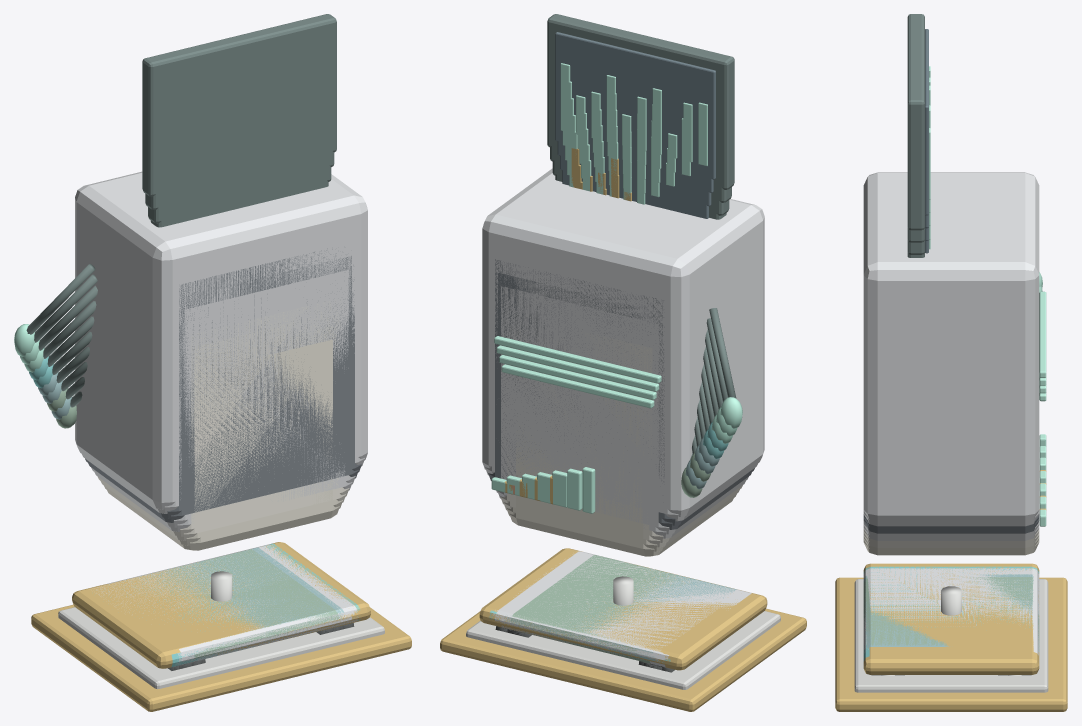
The model's file is Gear18.fbx.
The picture shows the model from 3 angles, left to right: view 1: azimuth 30°, elevation 25°; view 2: azimuth 150°, elevation 25°; view 3: azimuth 270°, elevation 25°; orthographic projection. The views are drawn at different scales.
Parts seen in each view (by area): view 1: Gear18_V10_Platinum, Gear18_V10_Ink, Gear18_V10_Gold, Gear18_V7_Graphite, Gear18_V7_Ink, Gear18_V6_Platinum, Gear18_V3_Linen, Gear18_V8_Graphite, Gear18_V9_Platinum, Gear18_V1_Sage, Gear18_V1_Ivory, Gear18_V4_Ink (+23 smaller); view 2: Gear18_V10_Platinum, Gear18_V6_Platinum, Gear18_V10_Glass, Gear18_V10_Gold, Gear18_V9_Platinum, Gear18_V1_Sage, Gear18_V9_Gold, Gear18_V10_Glow, Gear18_V10_Ink, Gear18_V1_Ivory, Gear18_V9_Glass, Gear18_V9_Glow (+23 smaller); view 3: Gear18_V10_Platinum, Gear18_V10_Gold, Gear18_V6_Platinum, Gear18_V10_Ink, Gear18_V10_Chrome, Gear18_V9_Gold, Gear18_V1_Sage, Gear18_V7_Platinum, Gear18_V8_Aqua, Gear18_V2_Blue, Gear18_V10_Glow, Gear18_V5_Platinum (+11 smaller).
Boxes of the visible parts, box(x1,y1,x2,y2) form: Gear18_V10_Platinum: box(75, 171, 367, 509); Gear18_V10_Ink: box(26, 14, 336, 334); Gear18_V10_Gold: box(31, 542, 411, 711); Gear18_V7_Graphite: box(88, 256, 358, 522); Gear18_V7_Ink: box(43, 79, 328, 358); Gear18_V6_Platinum: box(91, 270, 355, 661); Gear18_V3_Linen: box(100, 317, 345, 540); Gear18_V8_Graphite: box(85, 248, 361, 518); Gear18_V9_Platinum: box(82, 246, 364, 513); Gear18_V1_Sage: box(56, 405, 338, 658); Gear18_V1_Ivory: box(107, 339, 339, 550); Gear18_V4_Ink: box(56, 138, 318, 383); Gear18_V10_Platinum: box(482, 168, 764, 516); Gear18_V6_Platinum: box(495, 286, 748, 667); Gear18_V10_Glass: box(555, 32, 715, 179); Gear18_V10_Gold: box(440, 548, 806, 711); Gear18_V9_Platinum: box(485, 247, 757, 521); Gear18_V1_Sage: box(510, 467, 702, 663); Gear18_V9_Gold: box(445, 549, 758, 710); Gear18_V10_Glow: box(491, 63, 742, 512); Gear18_V10_Ink: box(547, 14, 736, 398); Gear18_V1_Ivory: box(509, 382, 733, 556); Gear18_V9_Glass: box(557, 52, 713, 192); Gear18_V9_Glow: box(494, 81, 737, 512); Gear18_V10_Platinum: box(863, 172, 1039, 522); Gear18_V10_Gold: box(835, 563, 1067, 711); Gear18_V6_Platinum: box(863, 521, 1039, 653); Gear18_V10_Ink: box(907, 14, 924, 230); Gear18_V10_Chrome: box(854, 579, 1048, 692); Gear18_V9_Gold: box(835, 565, 1067, 680); Gear18_V1_Sage: box(863, 577, 1039, 650); Gear18_V7_Platinum: box(863, 568, 1039, 650); Gear18_V8_Aqua: box(863, 566, 1039, 661); Gear18_V2_Blue: box(863, 575, 1039, 652); Gear18_V10_Glow: box(929, 66, 1046, 526); Gear18_V5_Platinum: box(863, 525, 1039, 655).
Size of the model in its own units: 94.46 by 186 by 66.
